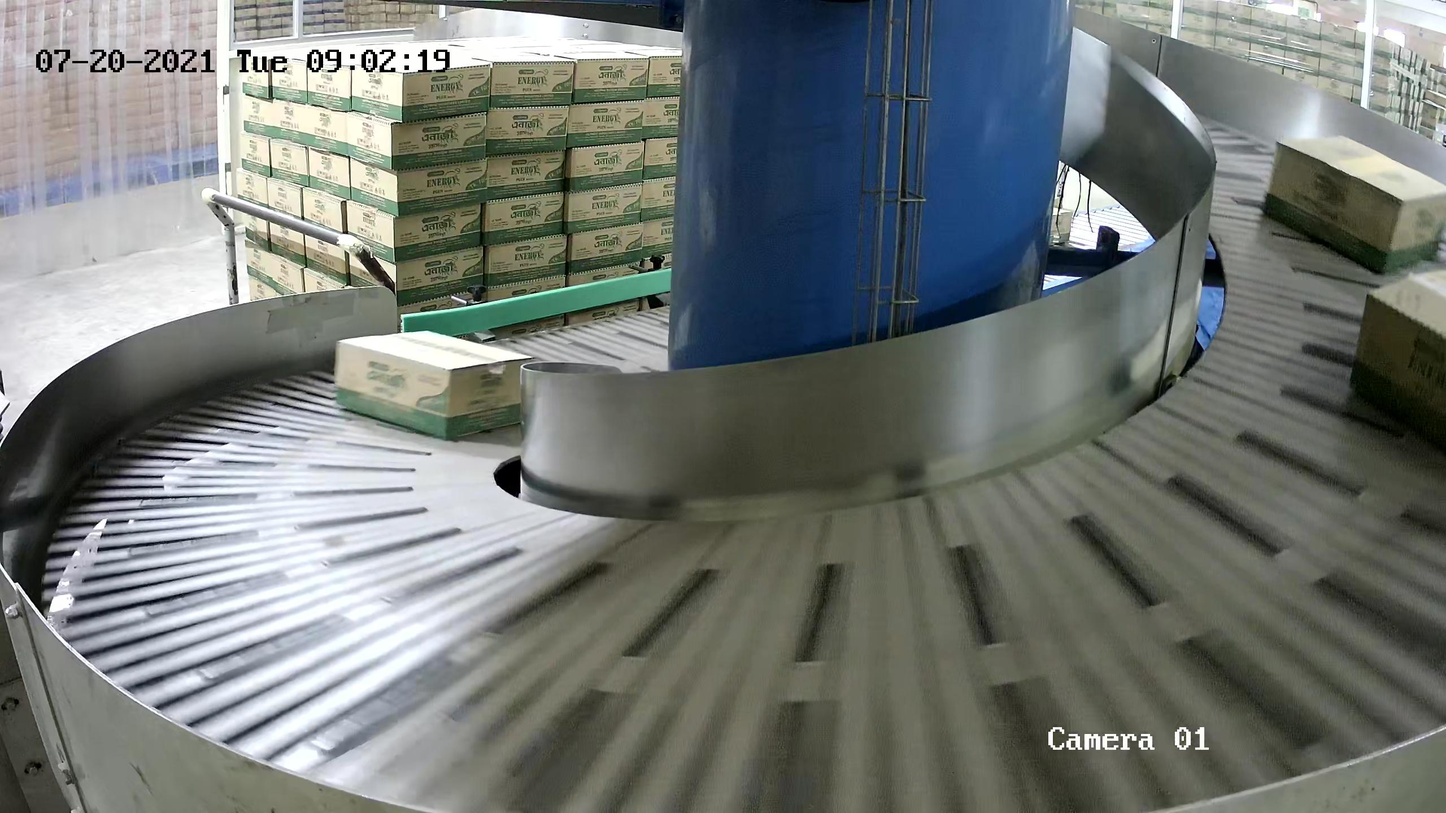Box: (1262, 134, 1446, 274), (333, 329, 536, 440), (1348, 267, 1446, 450)
